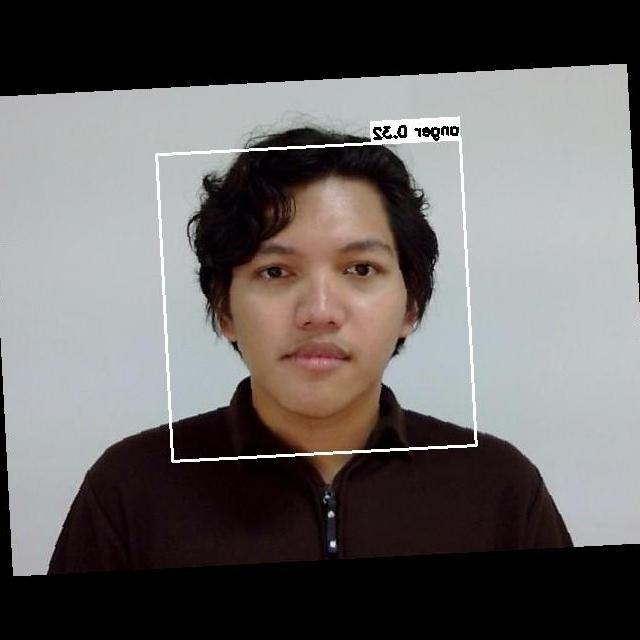Natural: (222, 210, 418, 390)
